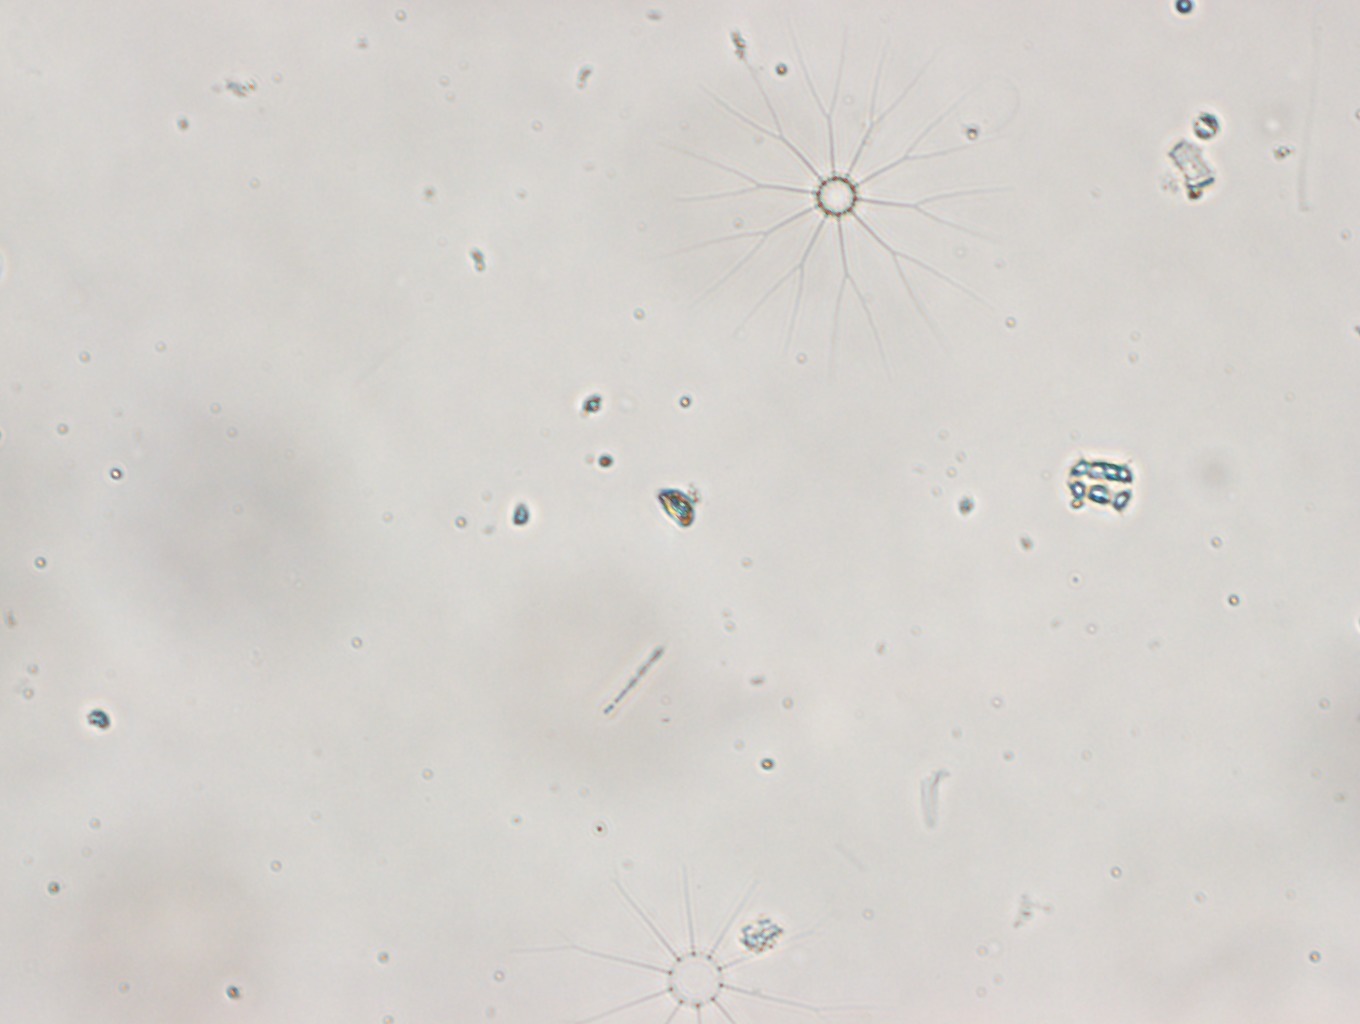bacteriastrum: (669, 27, 1025, 365)
